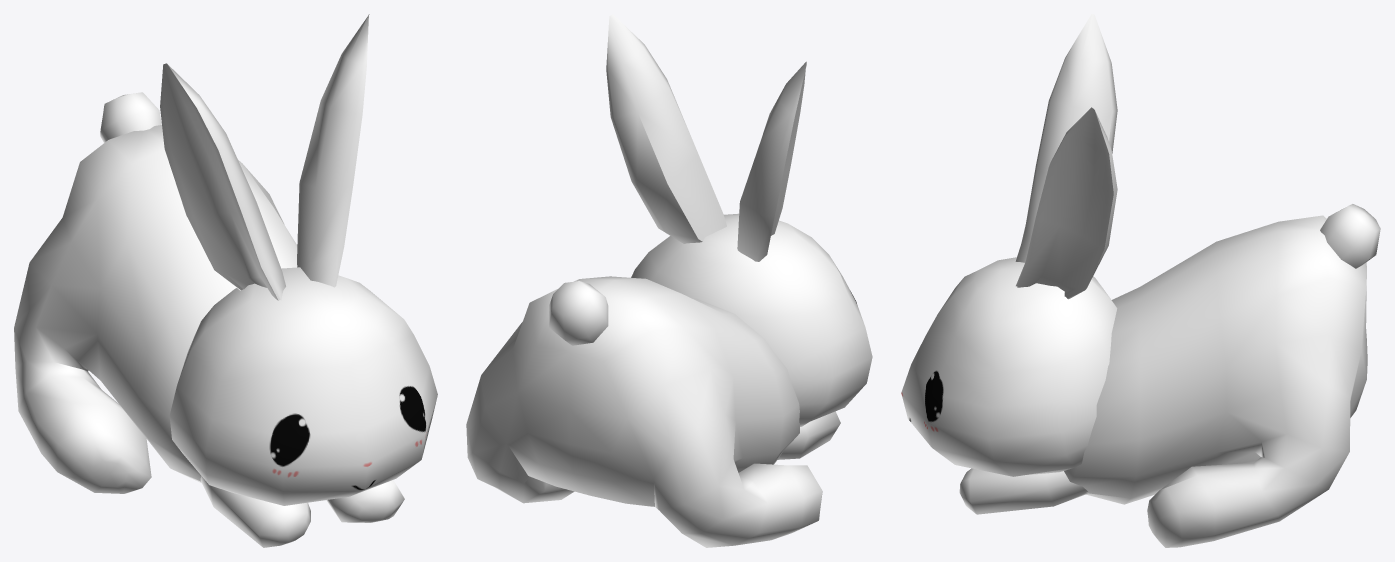
Rendered from nokkeruusa.fbx.
The picture shows the model from 3 angles, left to right: view 1: azimuth 30°, elevation 25°; view 2: azimuth 150°, elevation 25°; view 3: azimuth 270°, elevation 25°; orthographic projection. The views are drawn at different scales.
Visible parts, largest first — view 1: nokkeruusa; view 2: nokkeruusa; view 3: nokkeruusa.
Boxes of the visible parts, <box> form: nokkeruusa: <box>14,14,437,547</box>; nokkeruusa: <box>466,14,872,547</box>; nokkeruusa: <box>901,14,1380,547</box>.
Size of the model in its own units: 0.1621 by 0.218 by 0.2167.
Materials: 1 (1 with a texture image).
